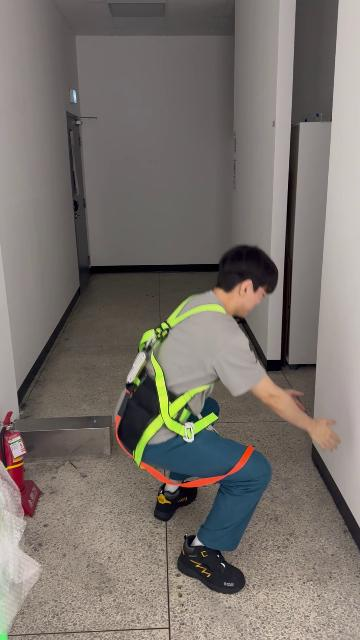helmet_not_worn: (215, 238, 279, 312)
shoe_worn: (178, 534, 246, 594), (154, 481, 197, 521)
vest_worn: (118, 304, 228, 472)
